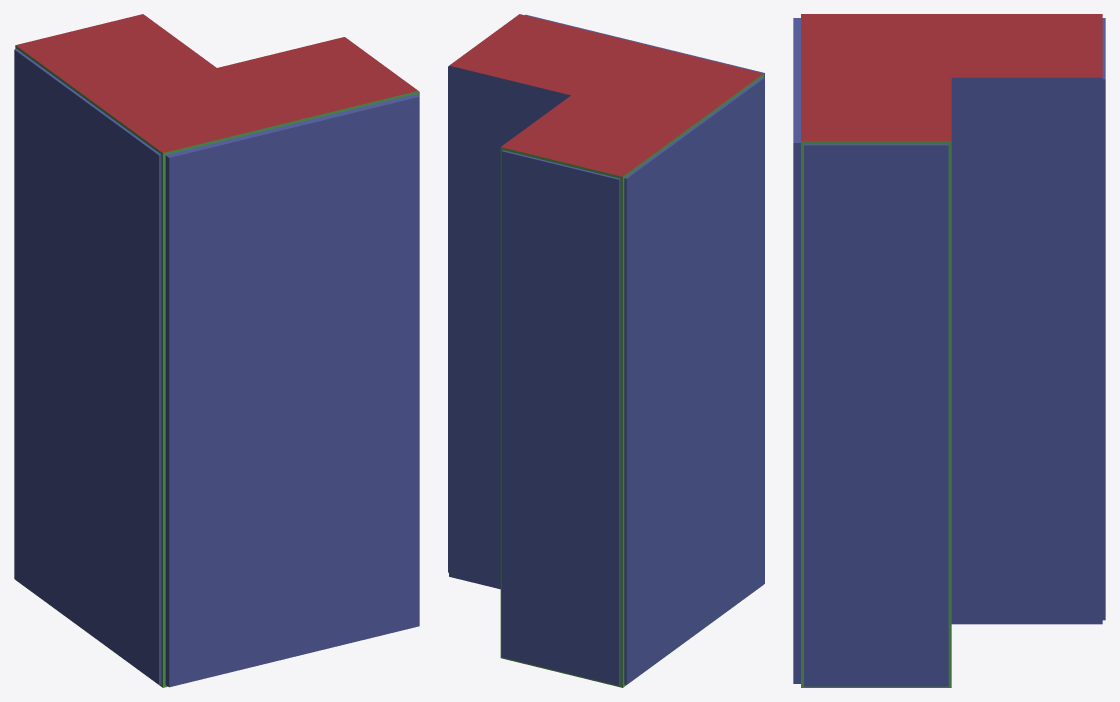
The model's file is SM_Corner_Outer_01.fbx.
3 views of the same model, side by side, from view 1: azimuth 30°, elevation 25°; view 2: azimuth 150°, elevation 25°; view 3: azimuth 270°, elevation 25° (orthographic). The views are drawn at different scales.
Parts seen in each view (by area): view 1: SM_Corner_Outer_01; view 2: SM_Corner_Outer_01; view 3: SM_Corner_Outer_01.
Boxes of the visible parts, <box> form: SM_Corner_Outer_01: <box>14,14,419,687</box>; SM_Corner_Outer_01: <box>448,14,764,687</box>; SM_Corner_Outer_01: <box>793,14,1105,687</box>.
Size of the model in its own units: 204 by 400 by 207.
